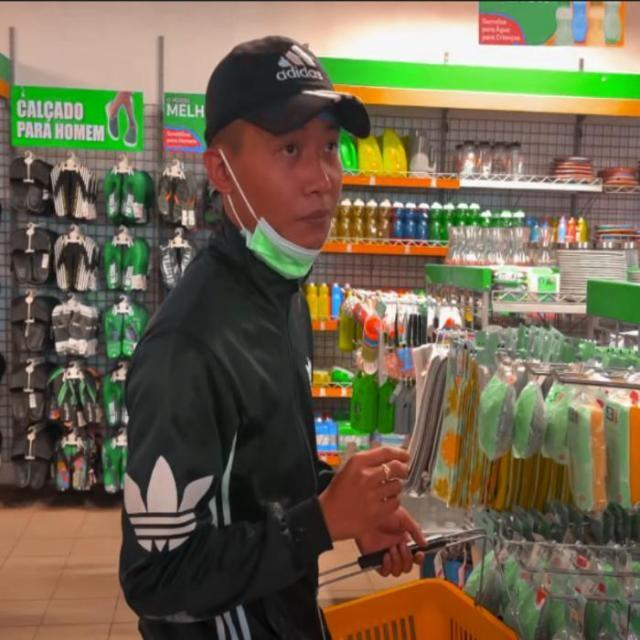hairnet: (238, 136, 344, 276)
